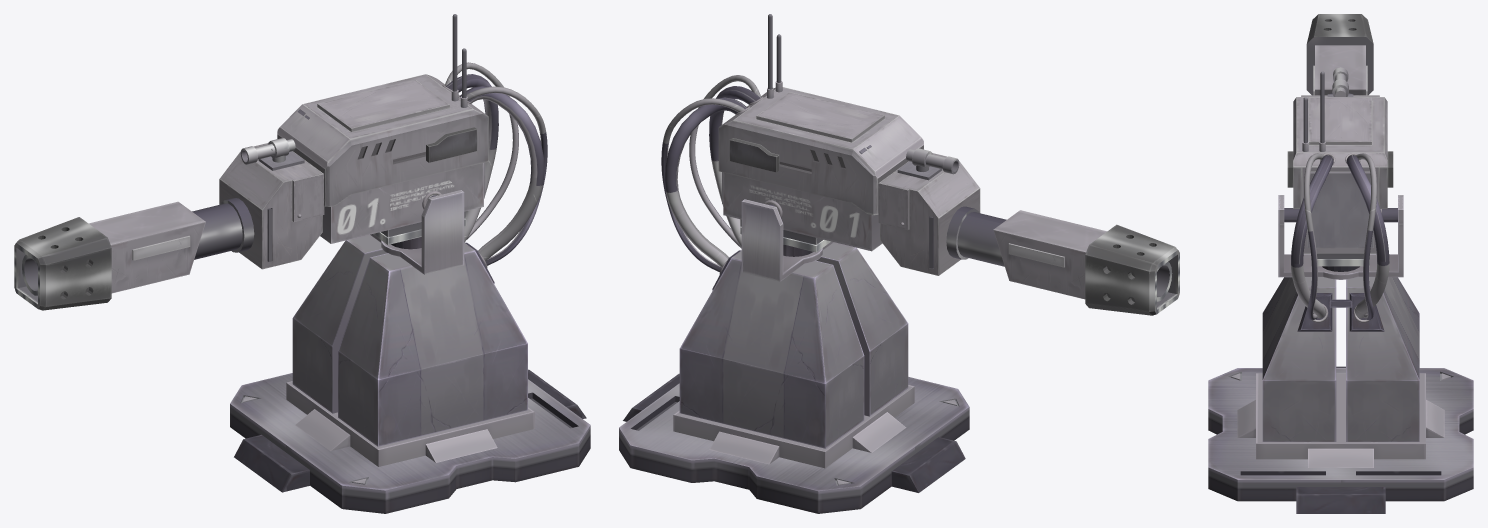
The model's file is 화염방사기_언맵.fbx.
3 renders of one model, left to right at view 1: azimuth 30°, elevation 25°; view 2: azimuth 150°, elevation 25°; view 3: azimuth 270°, elevation 25°, orthographic. The views are drawn at different scales.
Visible parts, largest first — view 1: 몸체, 상단, 발판, 상단 중간, 상단 발사 사각형, 대포 직사각형, 발판 위, 선 굵은거, 몸체 회전, 선얇은거, 상단 원통, 상단 박스 (+2 smaller); view 2: 몸체, 상단, 발판, 상단 중간, 상단 발사 사각형, 대포 직사각형, 발판 위, 선 굵은거, 몸체 회전, 선얇은거, 상단 원통, 상단 박스 (+2 smaller); view 3: 몸체, 발판, 상단, 발판 위, 선 굵은거, 상단 발사 사각형, 몸체 회전, 선얇은거, 대포 직사각형, 뒤쪽 연결, 몸체 박스, 상단 박스 (+3 smaller).
Part boxes in pixels (<box>): 몸체: <box>292,234,527,446</box>; 상단: <box>277,74,488,243</box>; 발판: <box>230,369,590,513</box>; 상단 중간: <box>219,143,324,269</box>; 상단 발사 사각형: <box>14,217,111,310</box>; 대포 직사각형: <box>89,201,205,293</box>; 발판 위: <box>286,381,534,466</box>; 선 굵은거: <box>446,74,544,260</box>; 몸체 회전: <box>370,190,464,274</box>; 선얇은거: <box>444,62,547,265</box>; 상단 원통: <box>192,198,254,259</box>; 상단 박스: <box>426,127,477,162</box>; 몸체: <box>679,242,908,448</box>; 상단: <box>718,87,923,251</box>; 발판: <box>619,373,969,513</box>; 상단 중간: <box>878,153,980,275</box>; 상단 발사 사각형: <box>1085,224,1179,315</box>; 대포 직사각형: <box>993,210,1106,299</box>; 발판 위: <box>673,385,914,468</box>; 선 굵은거: <box>664,86,760,267</box>; 몸체 회전: <box>741,199,833,281</box>; 선얇은거: <box>661,75,761,272</box>; 상단 원통: <box>946,206,1006,266</box>; 상단 박스: <box>729,138,779,172</box>; 몸체: <box>1262,253,1419,441</box>; 발판: <box>1208,366,1473,513</box>; 상단: <box>1293,97,1387,253</box>; 발판 위: <box>1237,373,1444,467</box>; 선 굵은거: <box>1291,155,1389,318</box>; 상단 발사 사각형: <box>1306,14,1373,95</box>; 몸체 회전: <box>1278,195,1403,279</box>; 선얇은거: <box>1304,153,1376,319</box>; 대포 직사각형: <box>1313,45,1367,95</box>; 뒤쪽 연결: <box>1297,293,1384,331</box>; 몸체 박스: <box>1311,253,1369,266</box>; 상단 박스: <box>1287,151,1393,187</box>.
Bounding box in the file's own units: 1665 × 1253 × 774.
